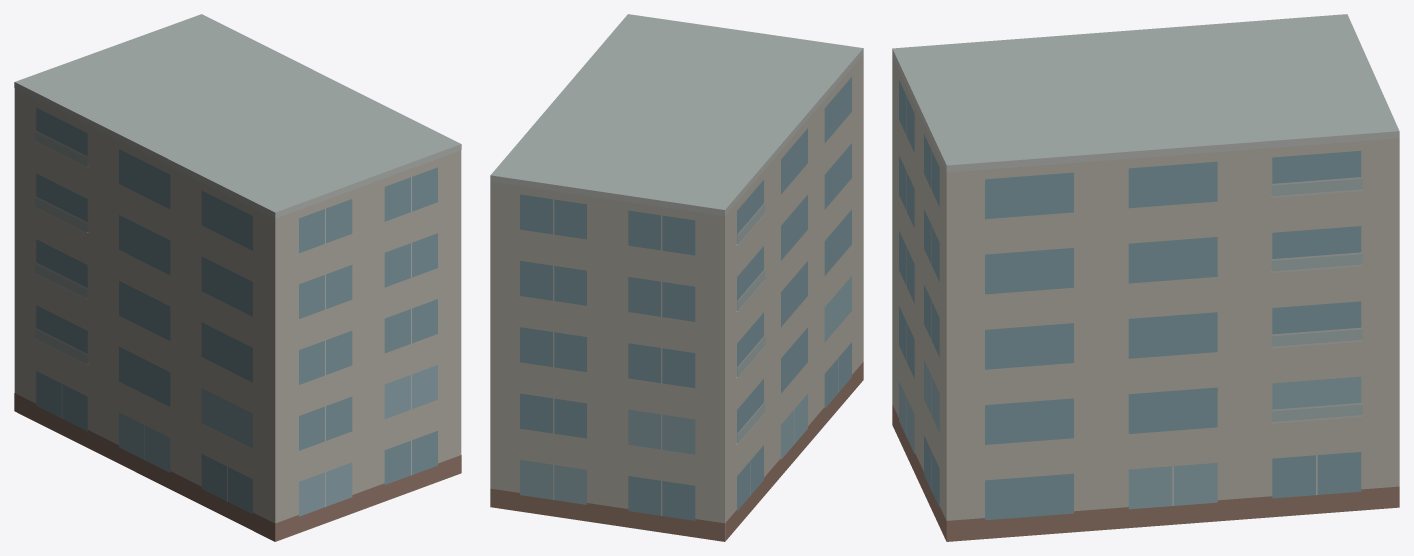
The model's file is survey-upis-32850371.glb.
3 renders of one model, left to right at view 1: azimuth 30°, elevation 25°; view 2: azimuth 150°, elevation 25°; view 3: azimuth 270°, elevation 25°, orthographic. The views are drawn at different scales.
Parts seen in each view (by area): view 1: survey-upis-32850371.tmp; view 2: survey-upis-32850371.tmp; view 3: survey-upis-32850371.tmp.
Boxes of the visible parts, x1,y1,x2,y2 form: survey-upis-32850371.tmp: (14,14,461,541); survey-upis-32850371.tmp: (490,14,863,541); survey-upis-32850371.tmp: (892,14,1399,541).
Bounding box in the file's own units: 11.32 × 13.1 × 16.01.
